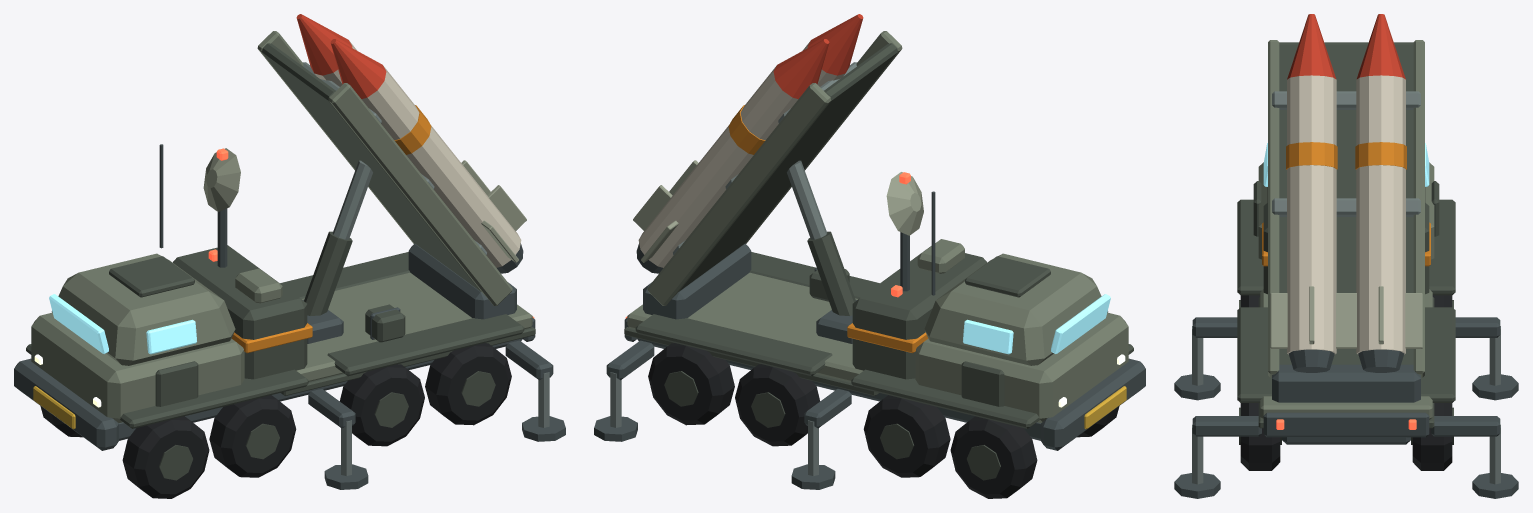
Rendered from fa_donnerkeil.glb.
3 renders of one model, left to right at view 1: azimuth 30°, elevation 25°; view 2: azimuth 150°, elevation 25°; view 3: azimuth 270°, elevation 25°, orthographic. The views are drawn at different scales.
Parts seen in each view (by area): view 1: fa_donnerkeil; view 2: fa_donnerkeil; view 3: fa_donnerkeil.
Part boxes in pixels (x1,y1,x2,y2): fa_donnerkeil: (14, 14, 565, 498); fa_donnerkeil: (594, 14, 1145, 498); fa_donnerkeil: (1174, 14, 1518, 498).
Bounding box in the file's own units: 3.26 × 2.66 × 2.08.
